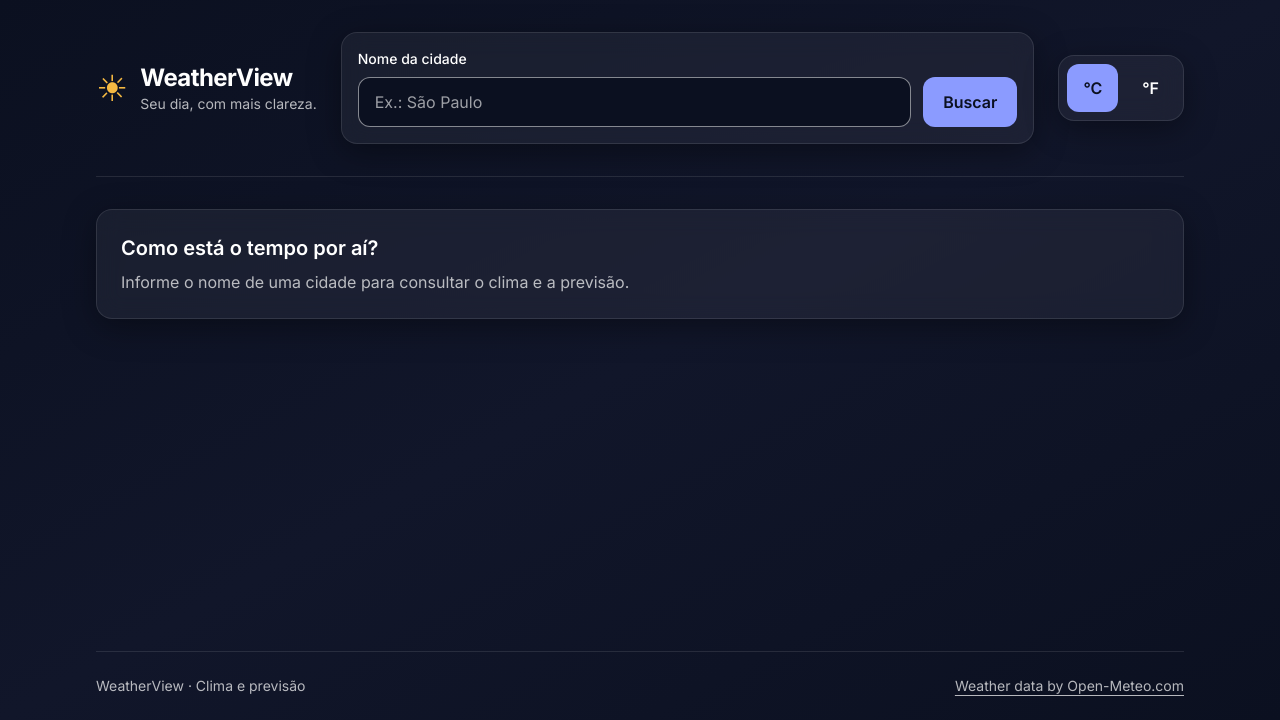
it: App integrado ao useWeather › mostra loading sem dados antigos e bloqueia a busca
This screenshot has width=1280, height=720.
Step 1. Type "Cidade" into the search field → (635, 102), box 358,77 -> 911,127
Then press Enter
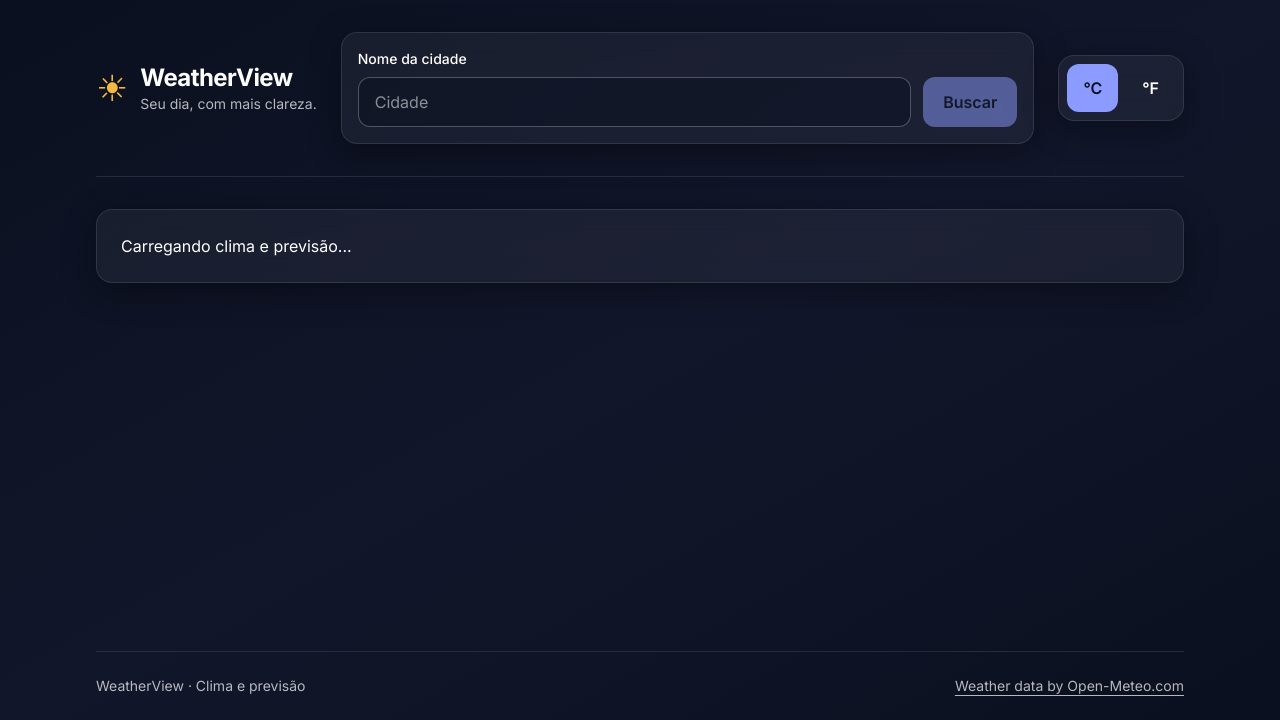
Result: the search field is disabled at 358,77 -> 911,127
Result: the button "Buscar" is disabled at 923,77 -> 1017,127
